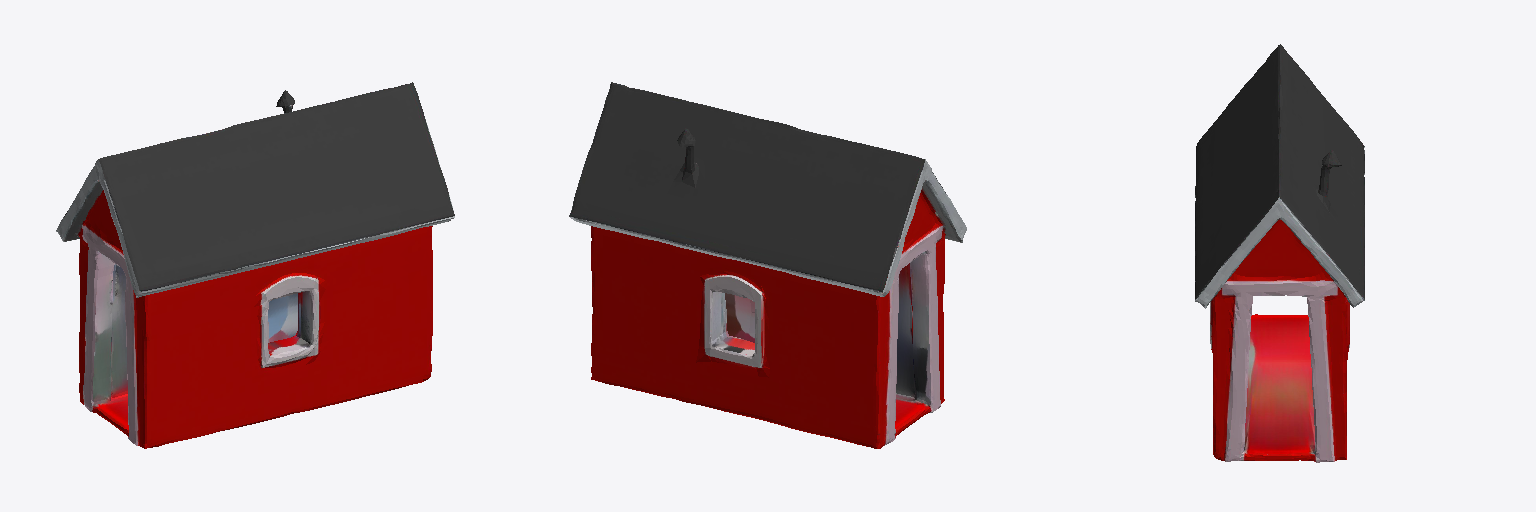
3 renders of one model, left to right at view 1: azimuth 30°, elevation 25°; view 2: azimuth 150°, elevation 25°; view 3: azimuth 270°, elevation 25°, orthographic.
Parts seen in each view (by area): view 1: tripo_node_2c592e8a-3755-4419-8c2e-5b6e6d0a4f0f; view 2: tripo_node_2c592e8a-3755-4419-8c2e-5b6e6d0a4f0f; view 3: tripo_node_2c592e8a-3755-4419-8c2e-5b6e6d0a4f0f.
Part boxes in pixels (bbox=[...]): tripo_node_2c592e8a-3755-4419-8c2e-5b6e6d0a4f0f: bbox=[56, 82, 454, 448]; tripo_node_2c592e8a-3755-4419-8c2e-5b6e6d0a4f0f: bbox=[569, 82, 966, 448]; tripo_node_2c592e8a-3755-4419-8c2e-5b6e6d0a4f0f: bbox=[1195, 44, 1364, 462].
Bounding box in the file's own units: 1 × 0.8236 × 0.4684.
1 materials, 1 textured.